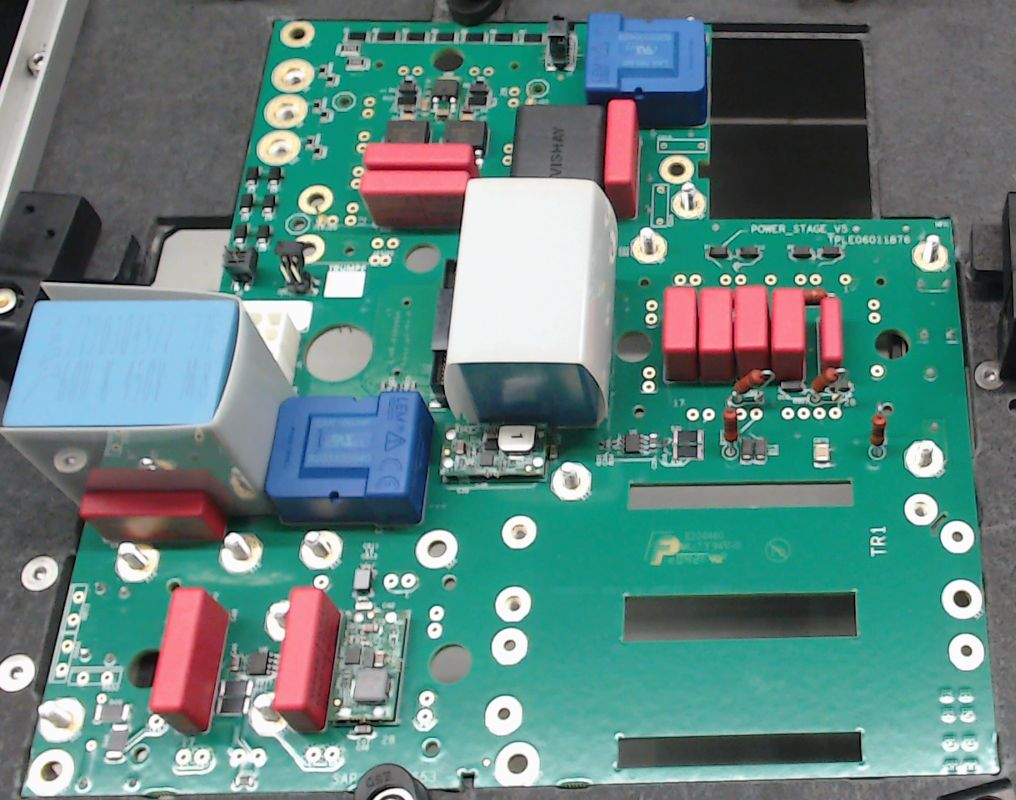comp1: (263, 390, 438, 525), (586, 13, 708, 126)
comp2: (149, 586, 228, 737), (272, 585, 340, 731), (77, 491, 226, 542), (358, 167, 473, 229), (602, 97, 640, 221), (731, 282, 770, 387), (698, 285, 735, 381), (662, 285, 698, 380), (362, 141, 477, 170), (771, 284, 805, 379), (818, 294, 845, 372)
comp3: (512, 103, 606, 181)
comp4: (1, 281, 297, 522), (444, 179, 620, 431)
